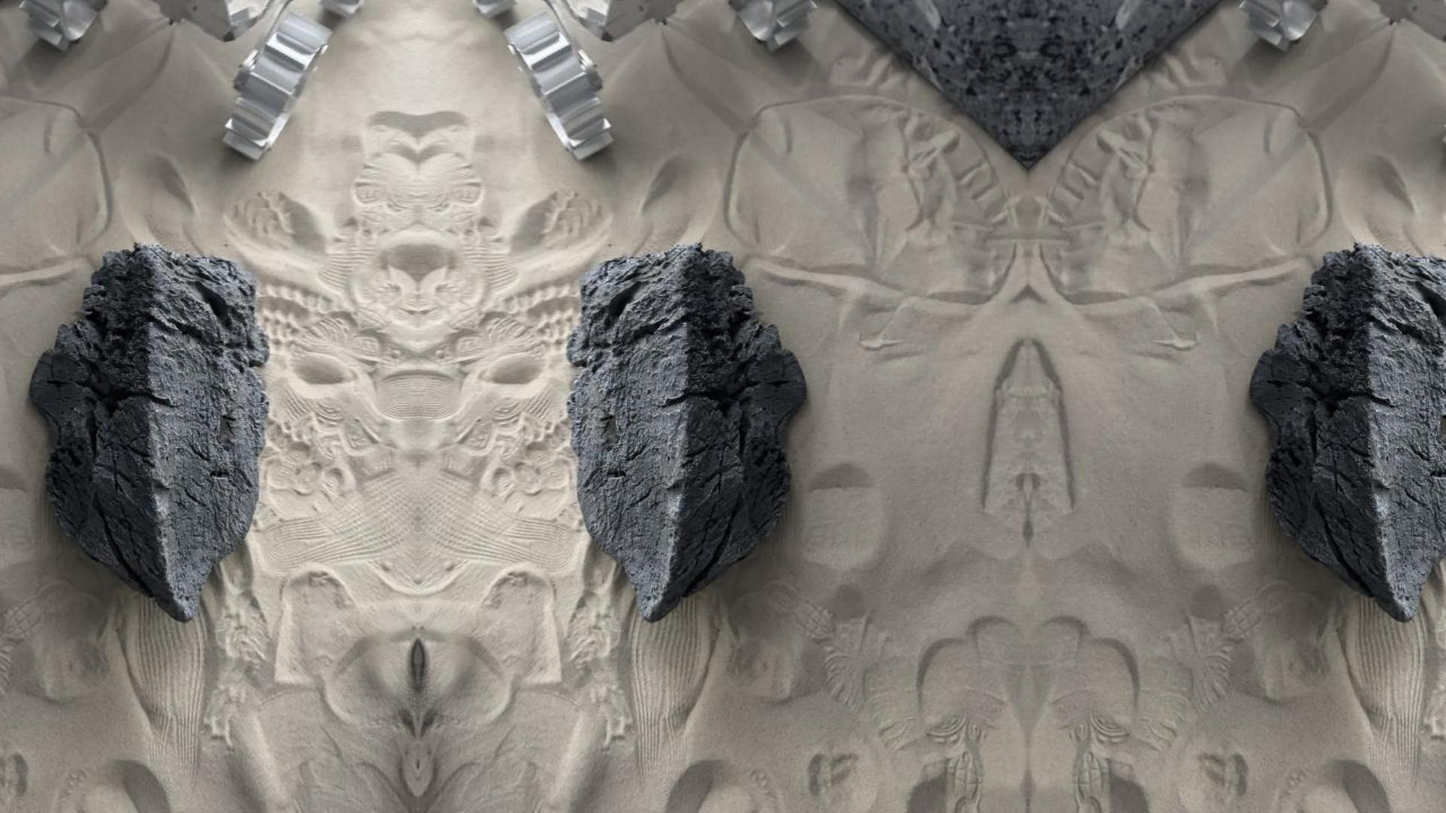rock: (566, 243, 805, 621), (29, 244, 268, 621), (1249, 243, 1445, 620)
